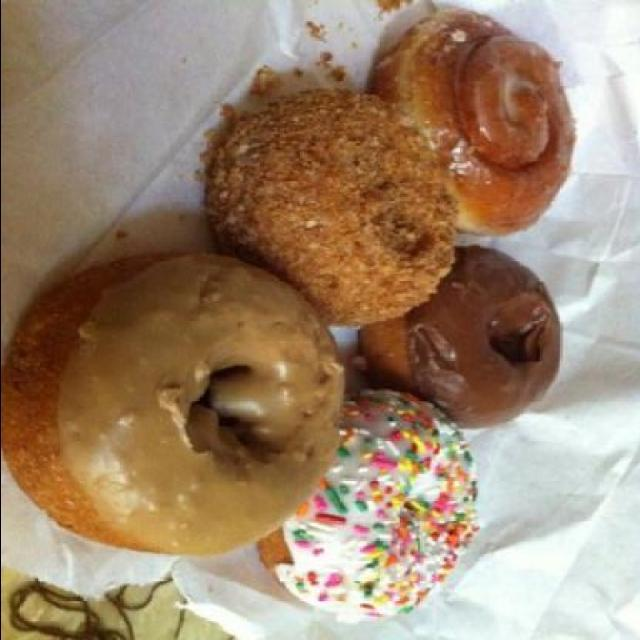Donuts: (2, 8, 600, 634)
